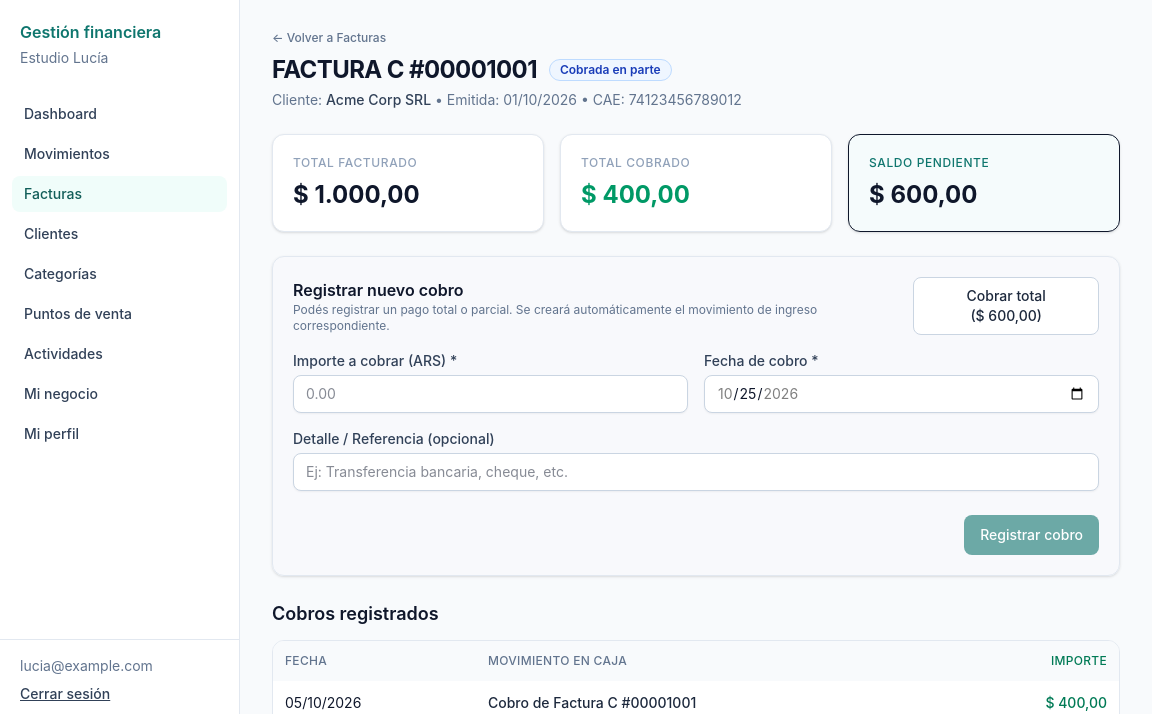
Scenario: pantalla de pagos de una factura (Issue #52) › permite registrar un pago parcial o total desde la misma pantalla
This screenshot has width=1152, height=714.
Expected: the heading "Registrar nuevo cobro" is shown, [293,280,464,300]
Expected: the button "Cobrar total ($ 600,00)" is shown, [913,277,1099,335]
# Cargar un pago parcial de $ 200,00
Type "200" into the number field labelled "Importe a cobrar (ARS) *".
click(490, 394); type("200")  # box [293,375,688,413]
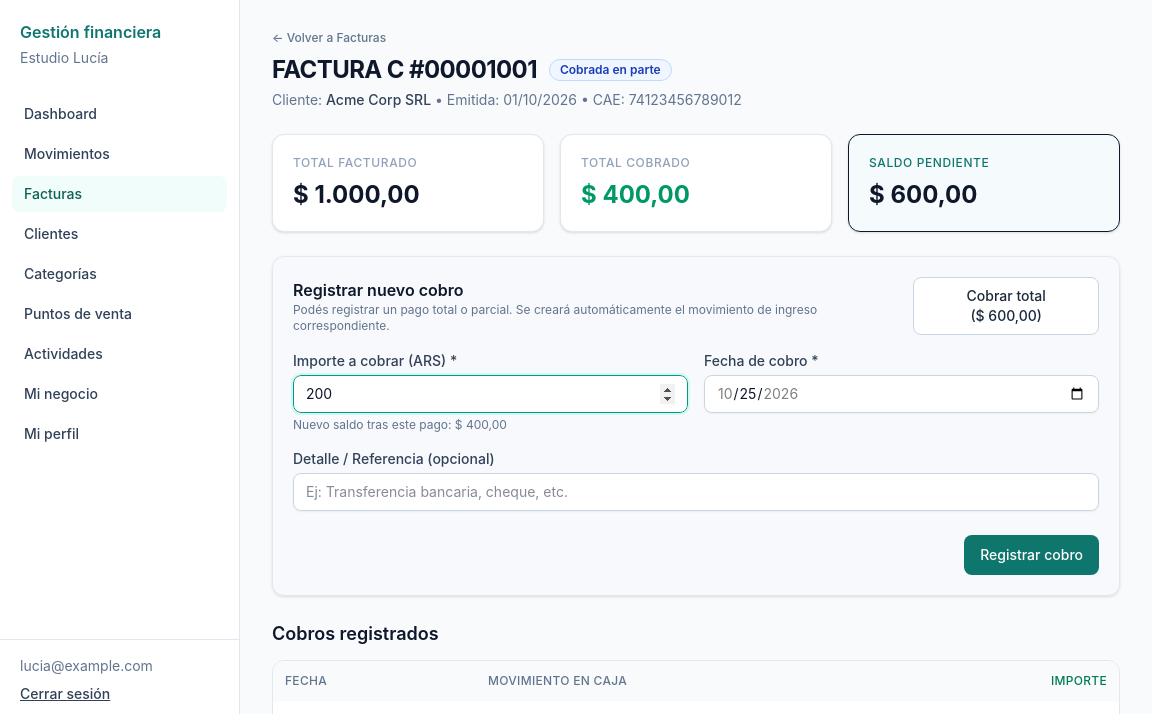
Click the button "Registrar cobro".
click(1032, 555)  # box [964,535,1099,575]
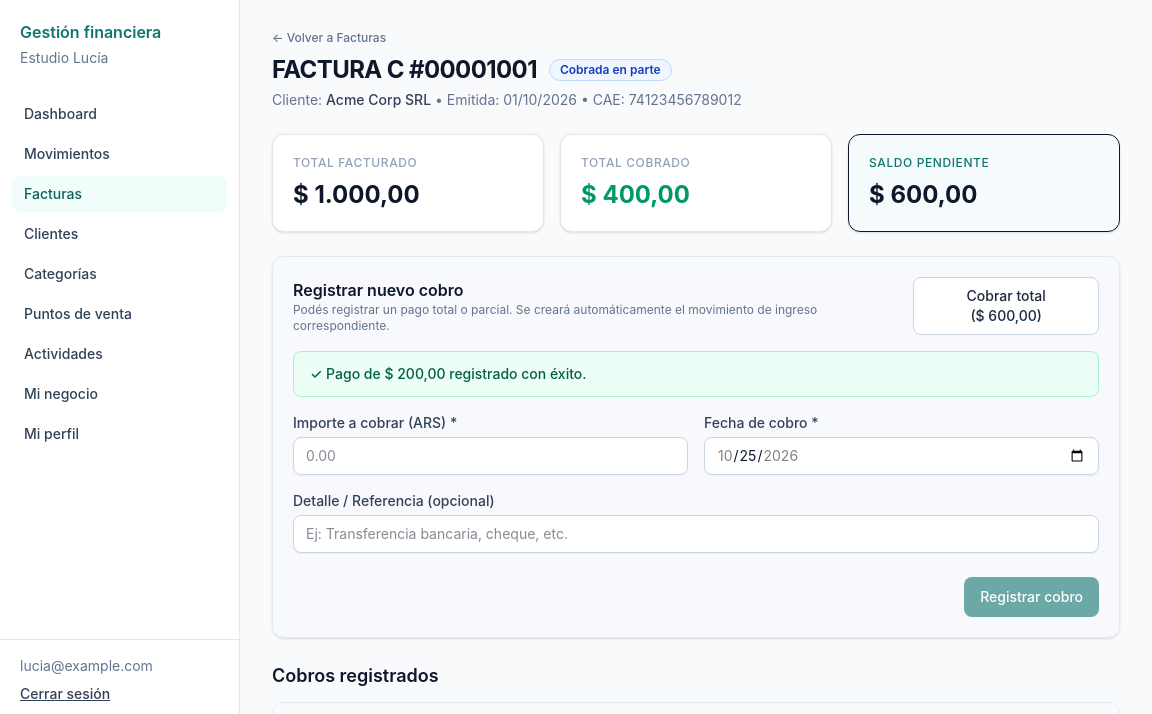
Expected: the text "✓ Pago de $ 200,00 registrado con éxito." is shown, [293,351,1099,397]
